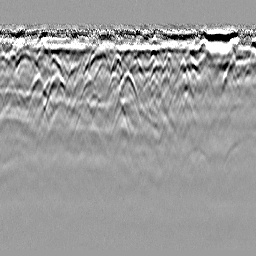cavity: (112, 66, 140, 114)
